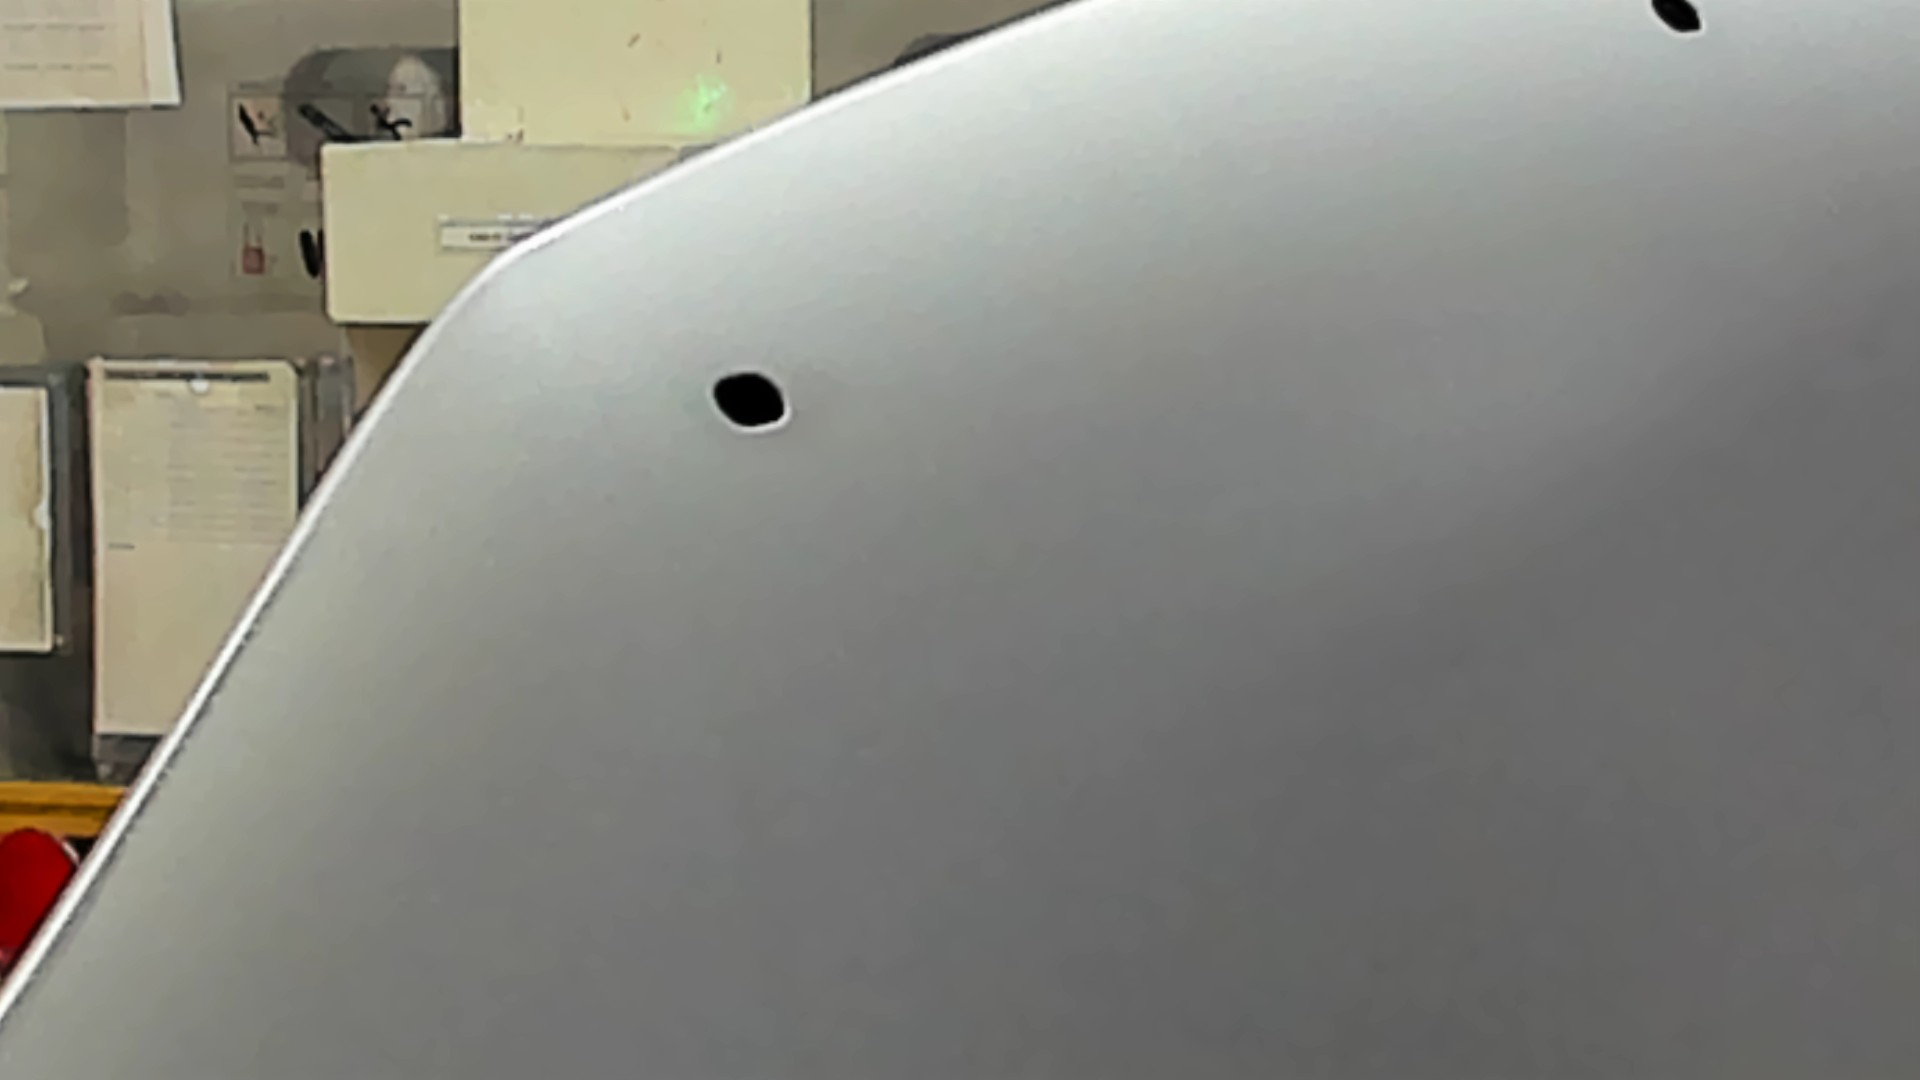chico: (696, 363, 810, 442), (1619, 1, 1712, 53)
